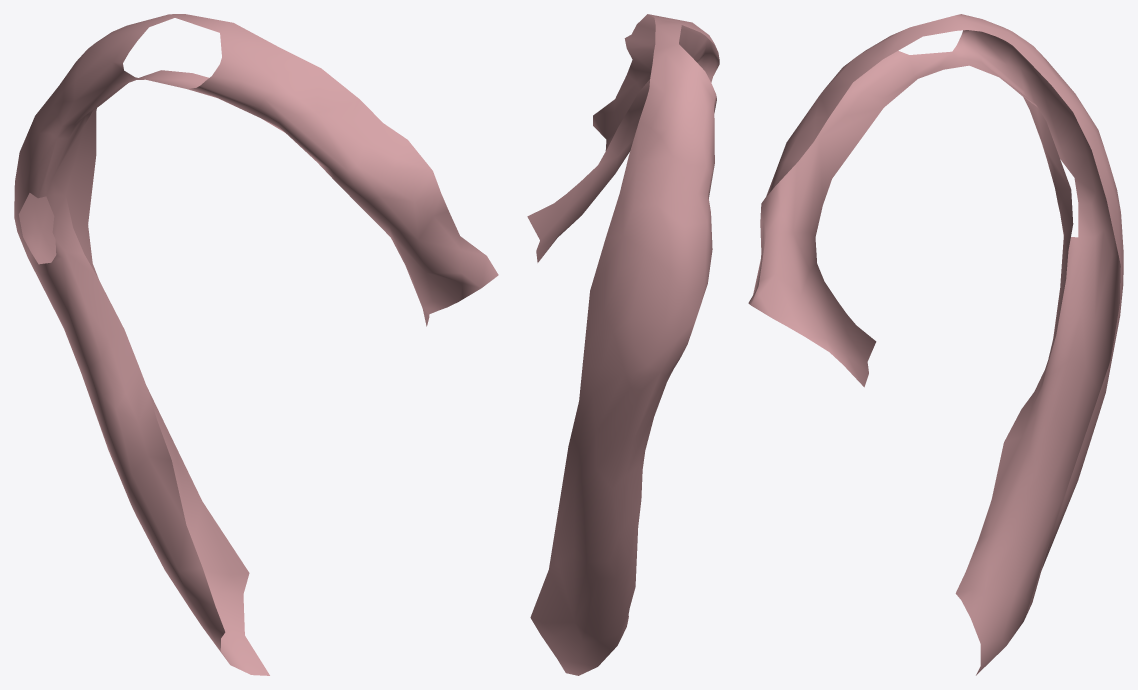
3 views of the same model, side by side, from view 1: azimuth 30°, elevation 25°; view 2: azimuth 150°, elevation 25°; view 3: azimuth 270°, elevation 25° (orthographic). The views are drawn at different scales.
Parts seen in each view (by area): view 1: ZA_777e7b839b393488; view 2: ZA_777e7b839b393488; view 3: ZA_777e7b839b393488.
Part boxes in pixels (x1,y1,x2,y2): ZA_777e7b839b393488: [14, 14, 498, 675]; ZA_777e7b839b393488: [527, 14, 719, 675]; ZA_777e7b839b393488: [748, 14, 1123, 675].
Size of the model in its own units: 0.0217 by 0.0483 by 0.0268.
